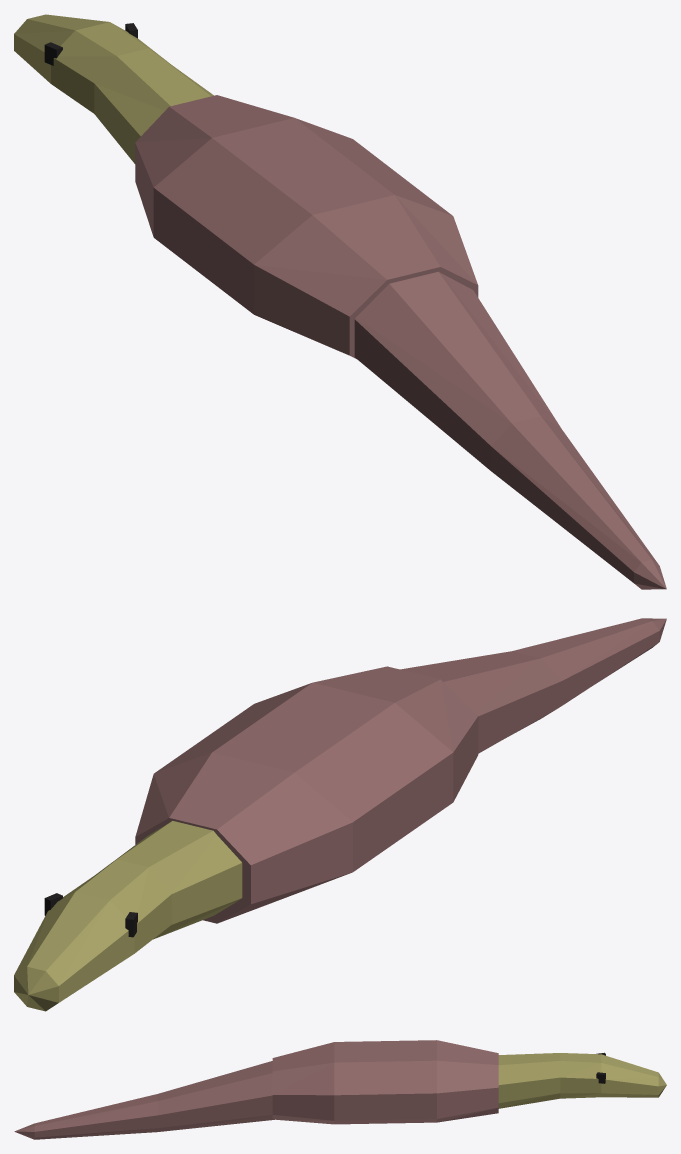
The model's file is animal_monitorlizard.obj.
The picture shows the model from 3 angles, top to bottom: view 1: azimuth 30°, elevation 25°; view 2: azimuth 150°, elevation 25°; view 3: azimuth 270°, elevation 25°; orthographic projection. The views are drawn at different scales.
Parts seen in each view (by area): view 1: animal_monitorlizard; view 2: animal_monitorlizard; view 3: animal_monitorlizard.
Boxes of the visible parts, bbox=[...] form: animal_monitorlizard: bbox=[14, 14, 666, 589]; animal_monitorlizard: bbox=[14, 618, 666, 1011]; animal_monitorlizard: bbox=[14, 1040, 666, 1139].
Bounding box in the file's own units: 0.2864 × 0.2366 × 1.59.
